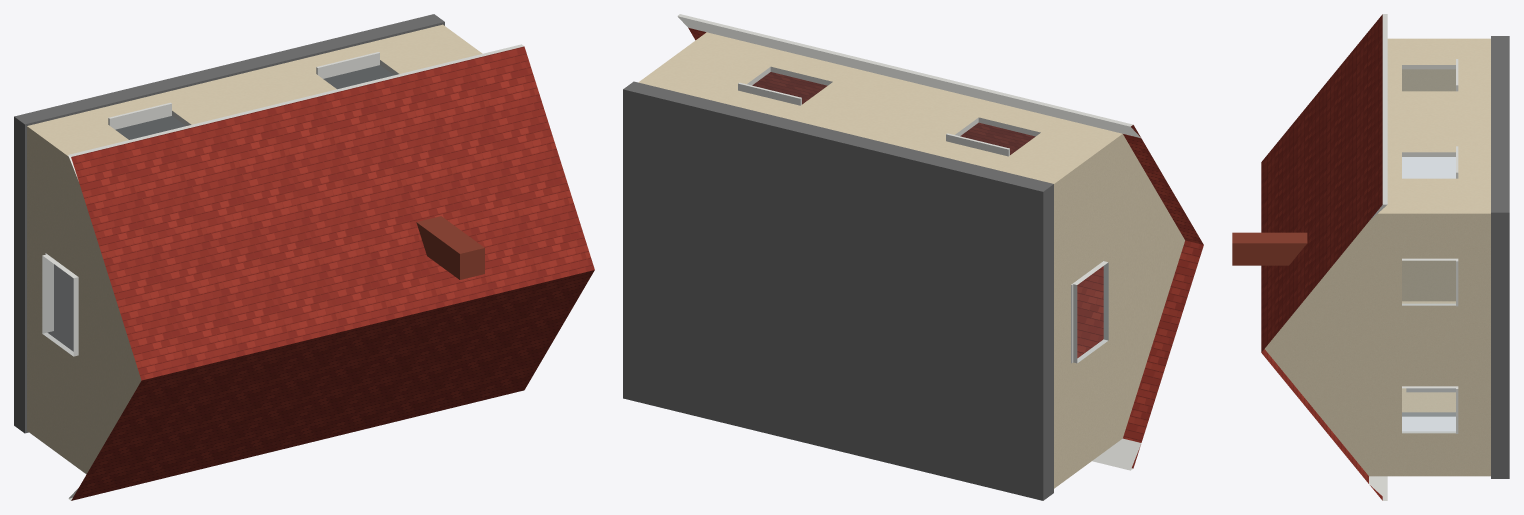
Rendered from house.obj.
3 views of the same model, side by side, from view 1: azimuth 30°, elevation 25°; view 2: azimuth 150°, elevation 25°; view 3: azimuth 270°, elevation 25° (orthographic). The views are drawn at different scales.
Parts seen in each view (by area): view 1: Roof, West gable, North wall, Plinth, Chimney; view 2: Plinth, West gable, North wall, Roof; view 3: East gable, Roof, North wall, Plinth, West gable, Chimney, South wall.
Boxes of the visible parts, x1,y1,x2,y2 form: Roof: (68, 44, 594, 500); West gable: (27, 126, 141, 474); North wall: (27, 24, 482, 156); Plinth: (14, 14, 444, 433); Chimney: (416, 216, 484, 279); Plinth: (623, 81, 1053, 500); West gable: (1054, 134, 1184, 488); North wall: (638, 32, 1122, 183); Roof: (677, 14, 1203, 470); East gable: (1265, 213, 1490, 476); Roof: (1261, 14, 1387, 500); North wall: (1378, 38, 1490, 213); Plinth: (1491, 36, 1509, 478); West gable: (1402, 69, 1455, 301); Chimney: (1232, 232, 1307, 265); South wall: (1402, 301, 1455, 416).
Bounding box in the file's own units: 10.9 × 7.9 × 6.7.
8 materials, 2 textured.
